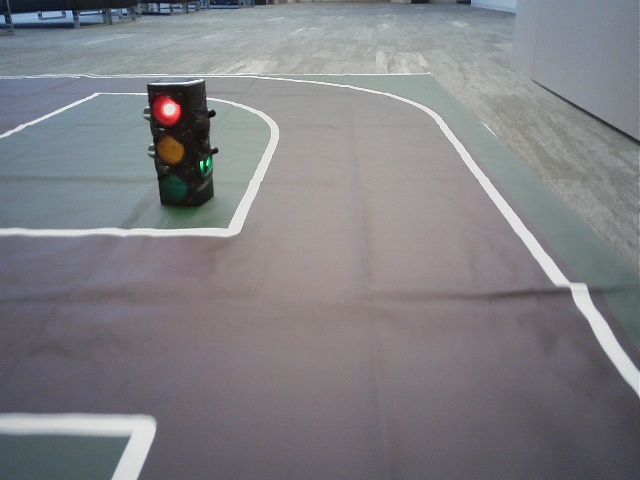red: (148, 88, 190, 203)
